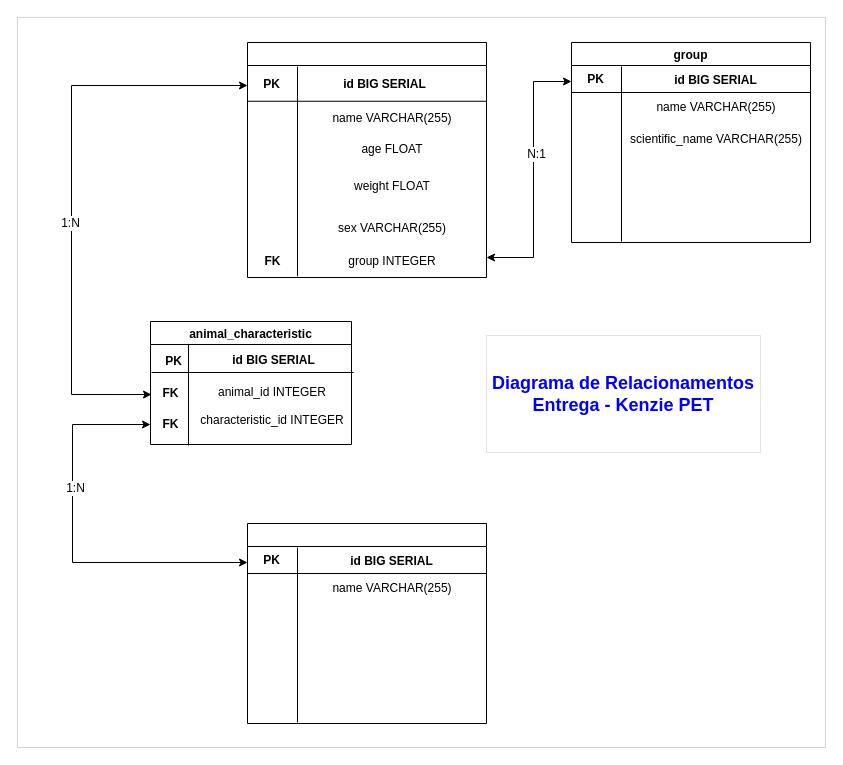
This 843x765 diagram has some shape labels left out. The shapes that lost their labels are listed below. From the top down, each one's box as (x1, y1, x2, y2) in pixels, then its label:
(246, 42, 486, 278): animal
(246, 522, 486, 724): characteristic
